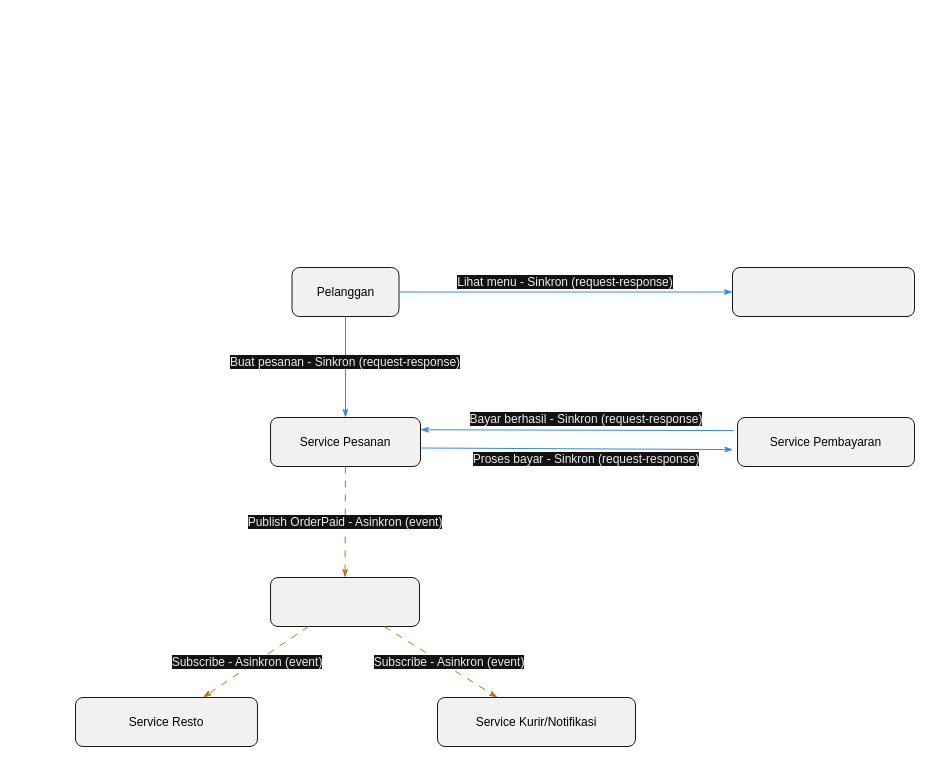
Image size: 932x764. Some labels were removed from this diagram. Here are the shapes that lost their labels. From the top down, the centre of each, then its label:
point 823,291: Service Katalog Resto
point 345,601: Message Broker
